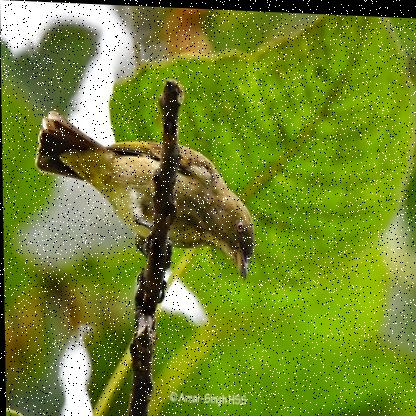Burung: (27, 99, 254, 282)
